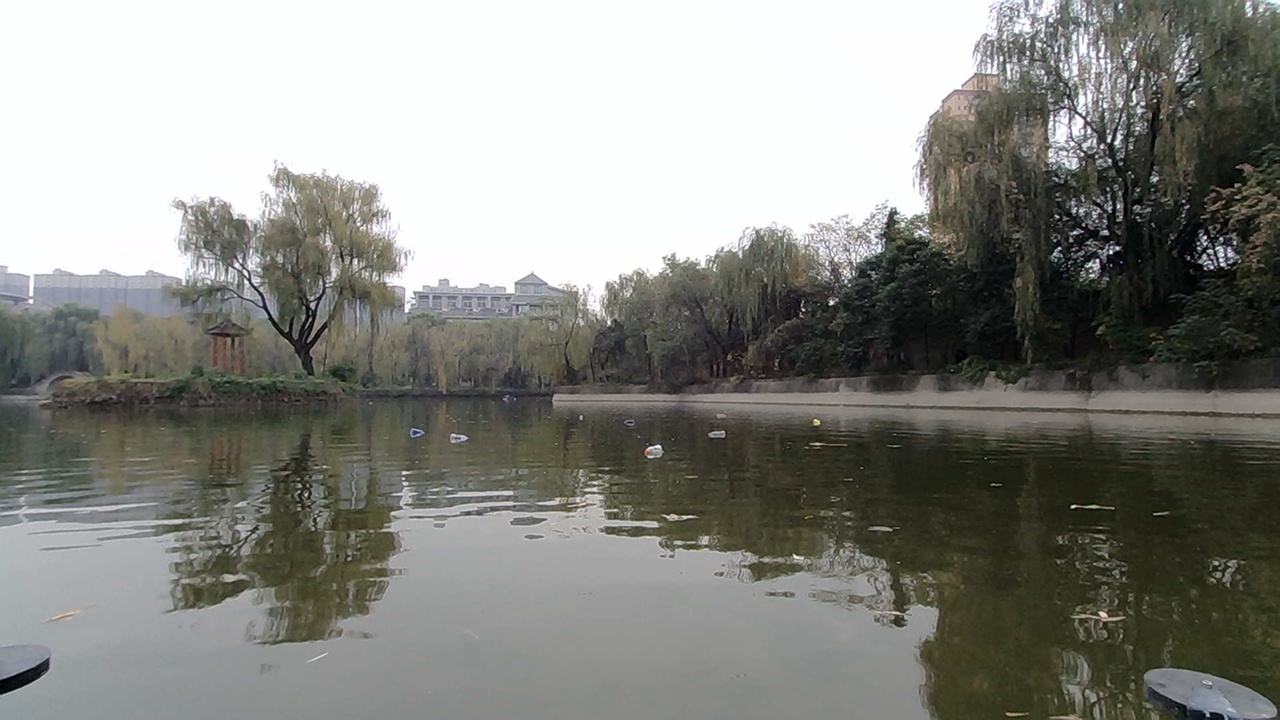bottle: (702, 415, 734, 444), (405, 422, 432, 452), (448, 420, 478, 447), (568, 404, 594, 429), (622, 406, 647, 430), (641, 442, 669, 463), (806, 413, 829, 438)
